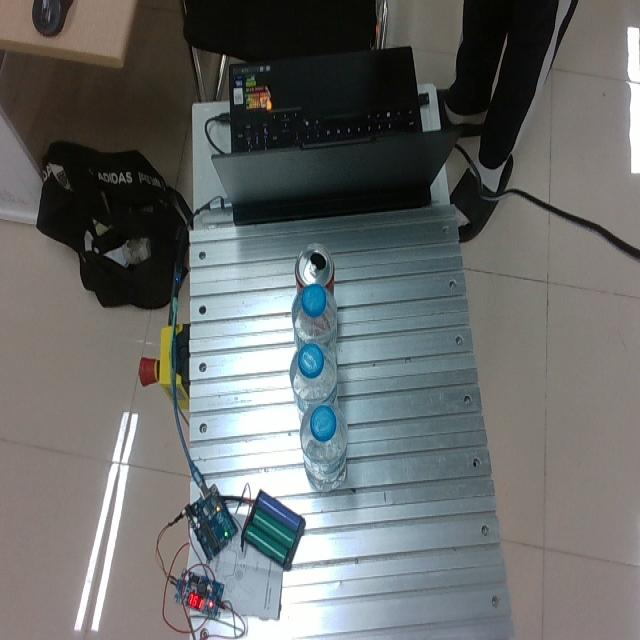coca: (294, 243, 336, 297)
lavie: (299, 398, 349, 490), (290, 341, 338, 411), (292, 282, 338, 350)
